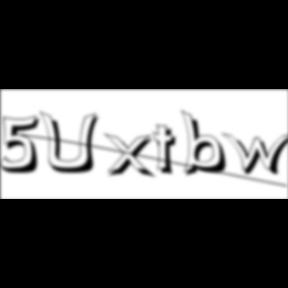5: (0, 114, 46, 176)
U: (40, 110, 104, 176)
b: (180, 109, 234, 179)
t: (153, 124, 184, 179)
x: (104, 132, 160, 181)
